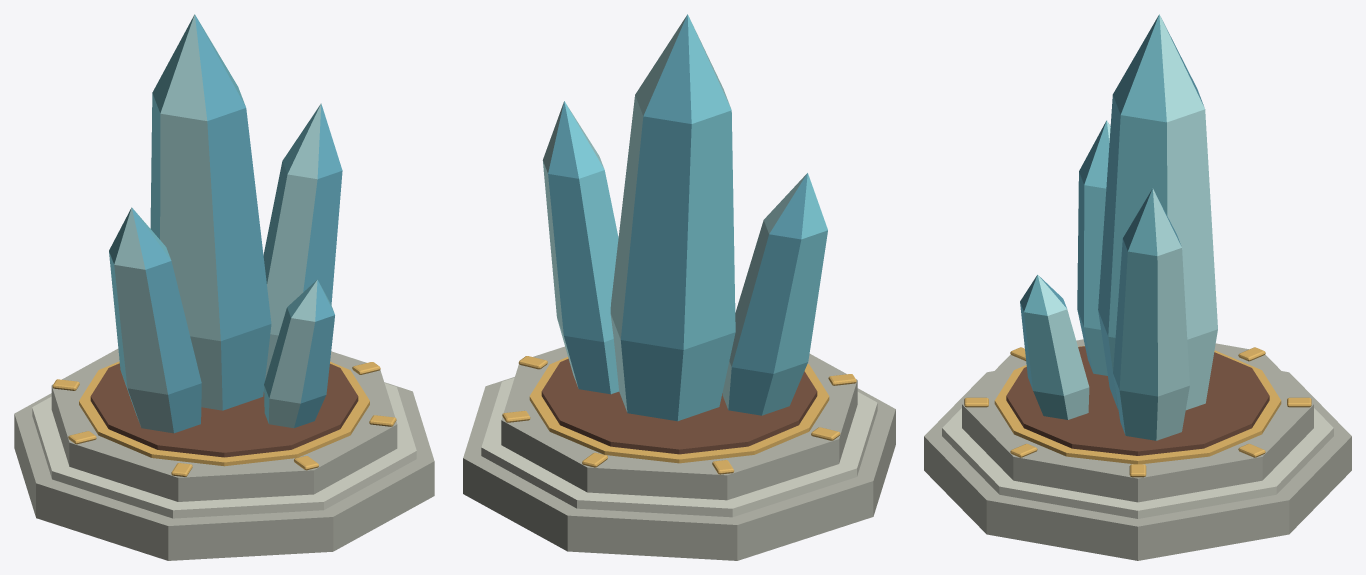
The model's file is wishing-crystal.fbx.
3 views of the same model, side by side, from view 1: azimuth 30°, elevation 25°; view 2: azimuth 150°, elevation 25°; view 3: azimuth 270°, elevation 25° (orthographic). The views are drawn at different scales.
Visible parts, largest first — view 1: wishing-crystal; view 2: wishing-crystal; view 3: wishing-crystal.
Part boxes in pixels (bbox=[...]): wishing-crystal: bbox=[14, 14, 434, 560]; wishing-crystal: bbox=[463, 14, 895, 560]; wishing-crystal: bbox=[924, 14, 1351, 560].
Bounding box in the file's own units: 260 × 300 × 260.
